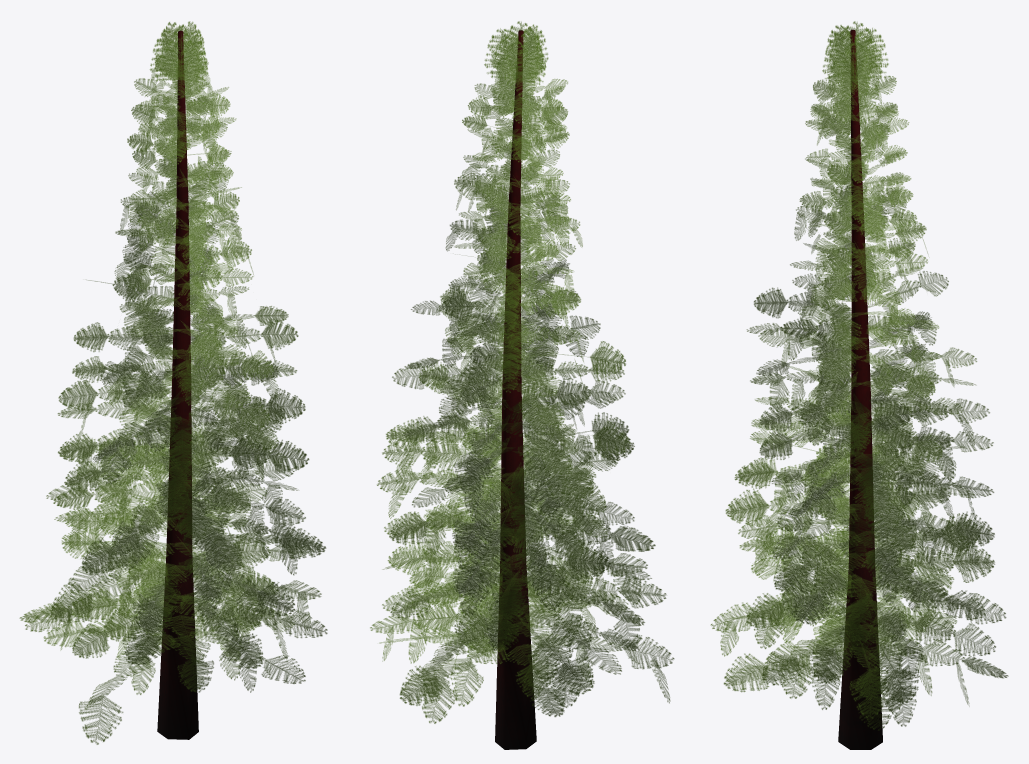
Rendered from larch_sparse_v01_LOD2.glb.
3 views of the same model, side by side, from view 1: azimuth 30°, elevation 25°; view 2: azimuth 150°, elevation 25°; view 3: azimuth 270°, elevation 25° (orthographic).
Parts seen in each view (by area): view 1: larch_sparse_v01_LOD2; view 2: larch_sparse_v01_LOD2; view 3: larch_sparse_v01_LOD2.
Boxes of the visible parts, box(x1,y1,x2,y2) form: larch_sparse_v01_LOD2: box(19, 21, 327, 744); larch_sparse_v01_LOD2: box(370, 21, 674, 749); larch_sparse_v01_LOD2: box(711, 21, 1008, 749).
Bounding box in the file's own units: 5.56 × 14.21 × 5.5.
Materials: 2 (2 with a texture image).
